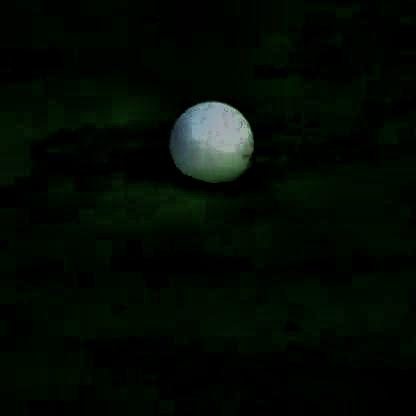golfball: (163, 98, 251, 181)
